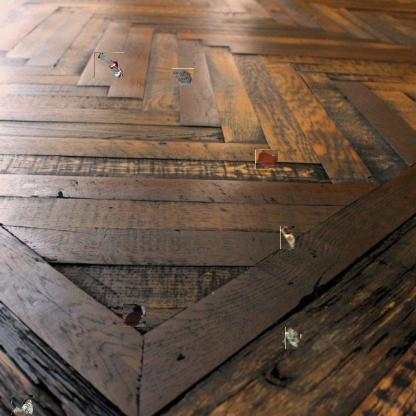dirty: (94, 52, 124, 78), (11, 396, 33, 416), (172, 68, 194, 87), (280, 225, 295, 249), (284, 329, 302, 348)
liquid: (122, 303, 146, 327), (255, 149, 278, 169)
